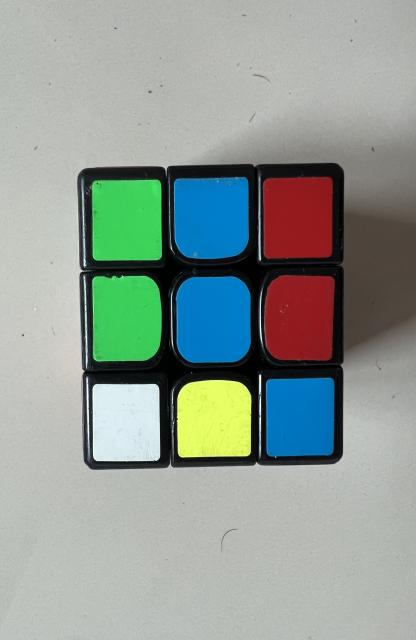Blue: (177, 276, 250, 362), (174, 178, 249, 259), (266, 378, 335, 456)
Green: (92, 276, 161, 361), (92, 180, 162, 261)
Red: (264, 275, 335, 361), (263, 178, 333, 259)
White: (92, 384, 160, 461)
Yellow: (177, 380, 251, 458)
